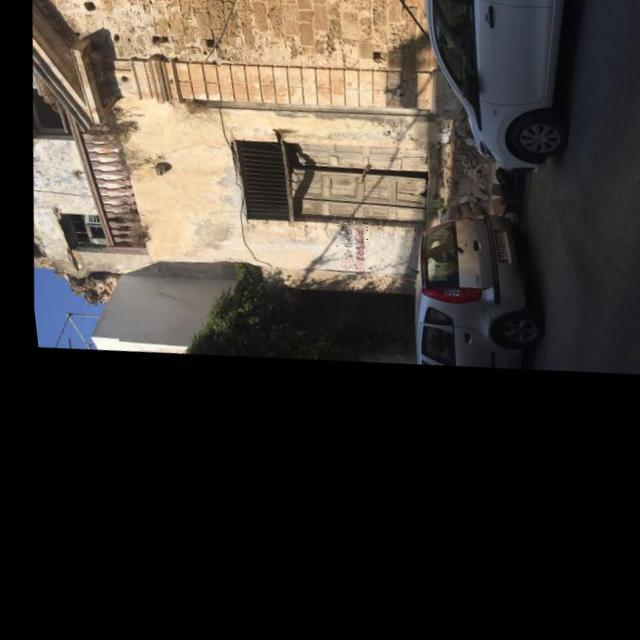-: (326, 222, 367, 266), (331, 232, 364, 276), (378, 85, 406, 112), (375, 124, 402, 150)
